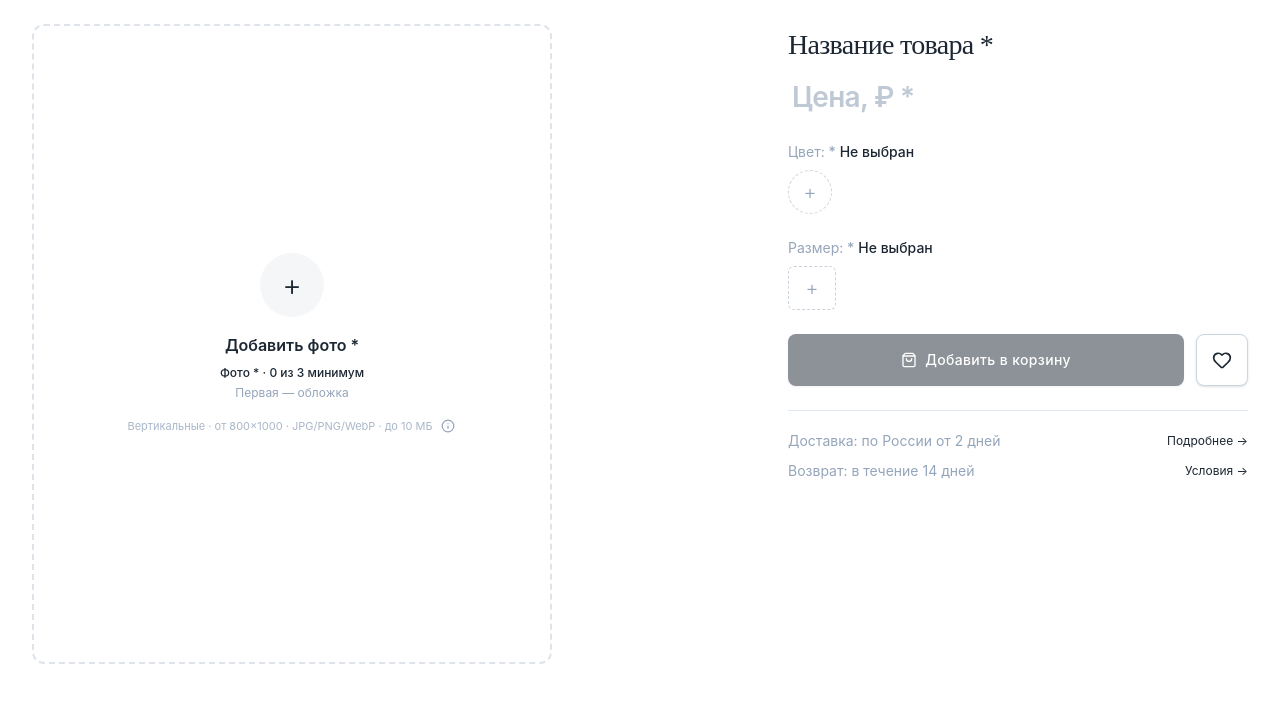
it: PS.R4A.6B — Validation & Required-State Visual Language › F. Complete field clears attention state immediately
The image size is (1280, 720).
// Focus and blur empty title to trigger attention
Click the heading "Название товара *" at (891, 44), box [788,29,993,60]
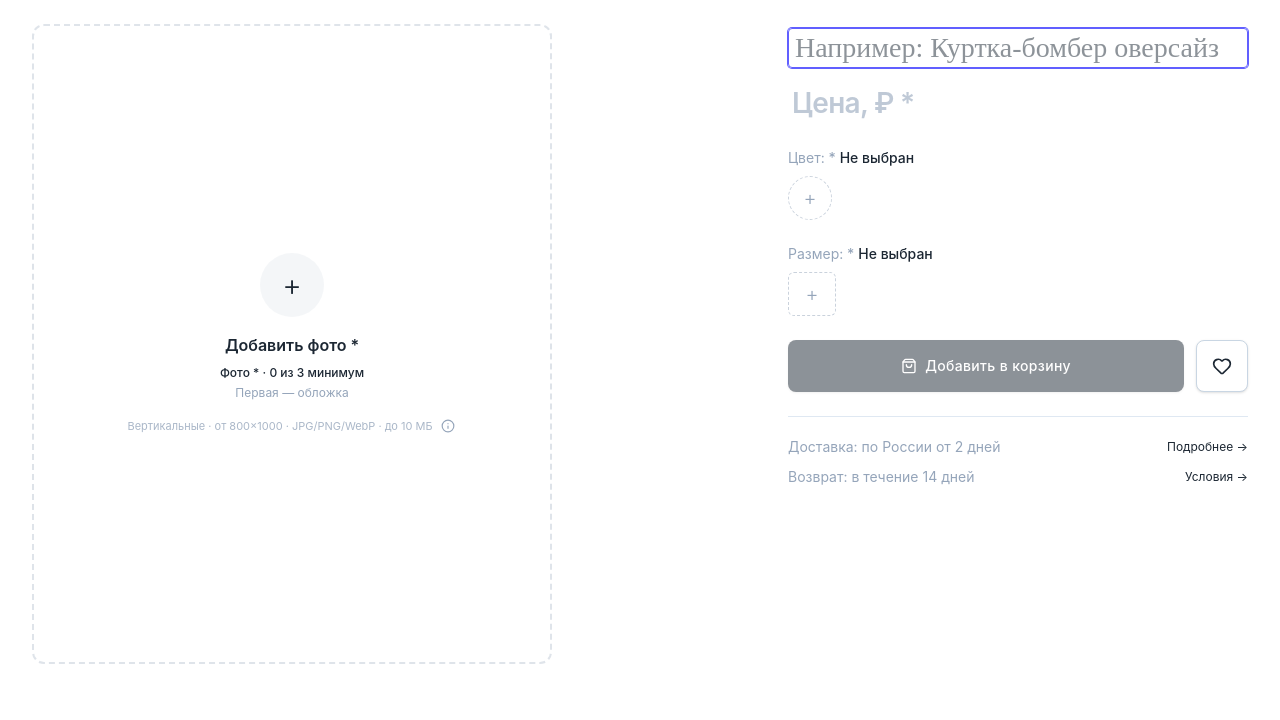
Leave the field with test id "visual-inline-input", box [788,28,1248,68]
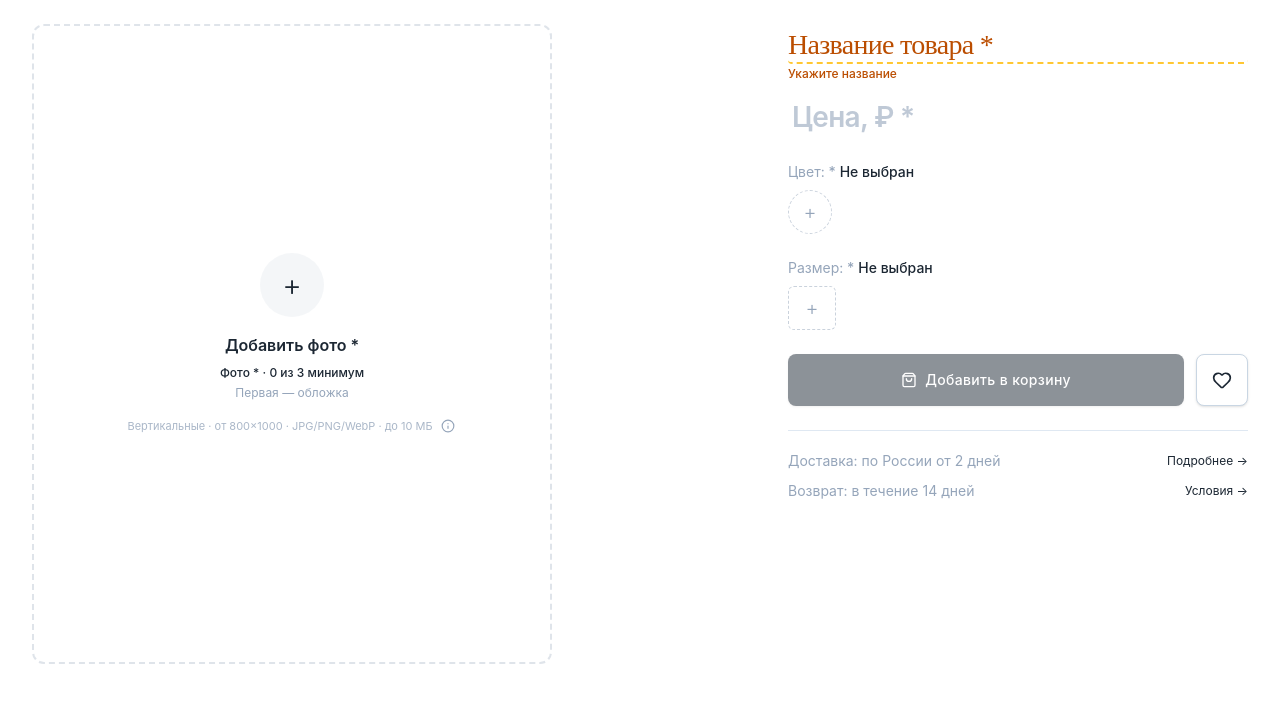
Check: the text "Укажите название" is shown, box [788,66,897,81]
// Now edit and enter valid title
Click the heading "Название товара *" at (1018, 46), box [788,28,1248,64]
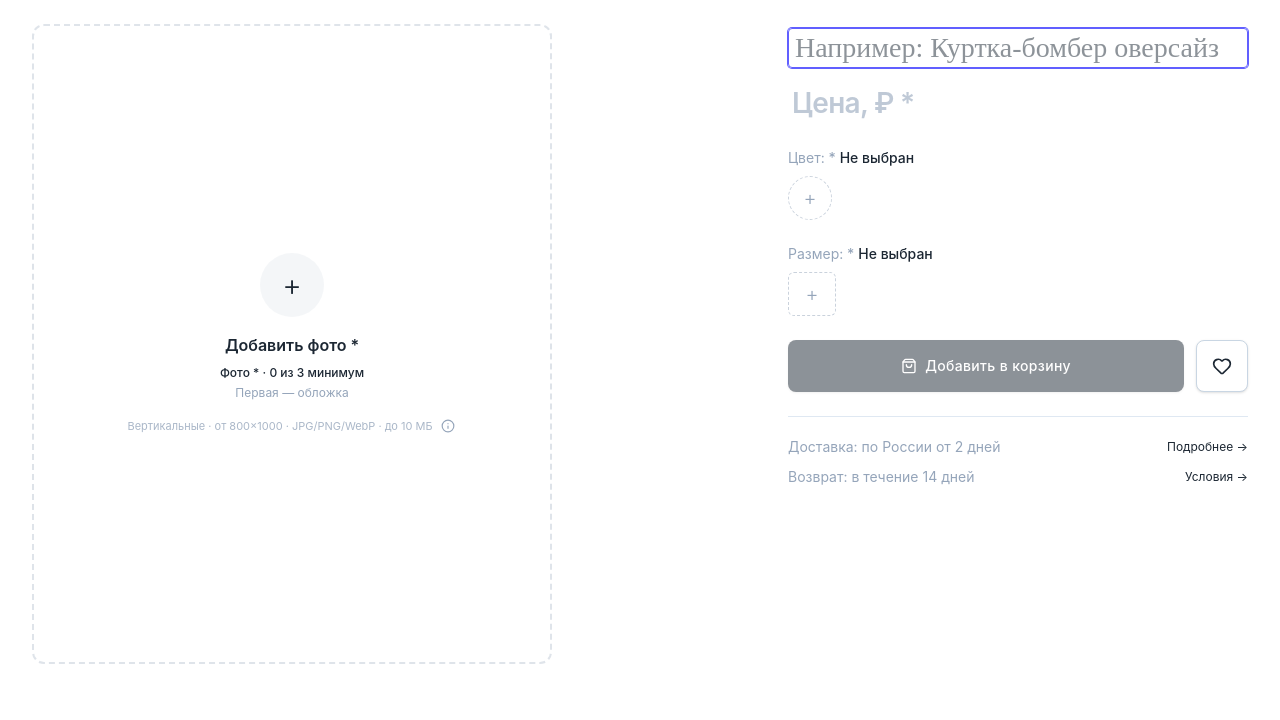
Type "Шёлковая рубашка" into the field with test id "visual-inline-input" at (1018, 48), box [788,28,1248,68]
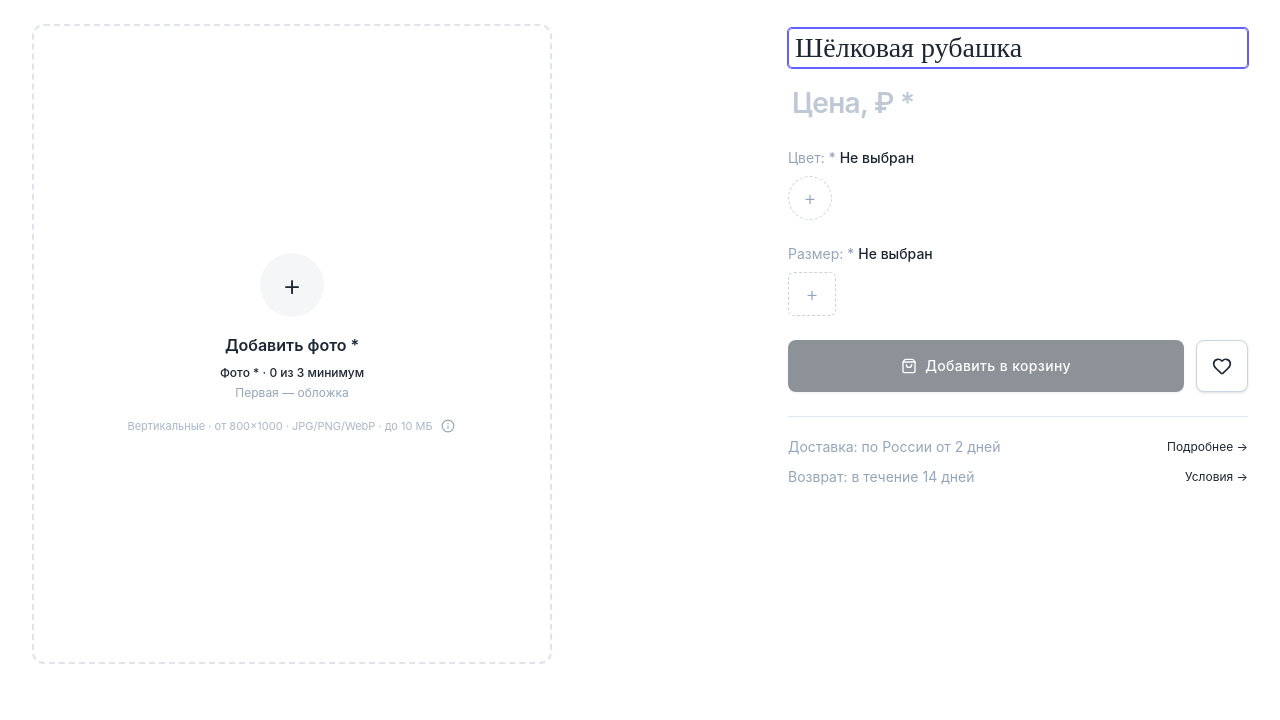
Leave the field with test id "visual-inline-input", box [788,28,1248,68]
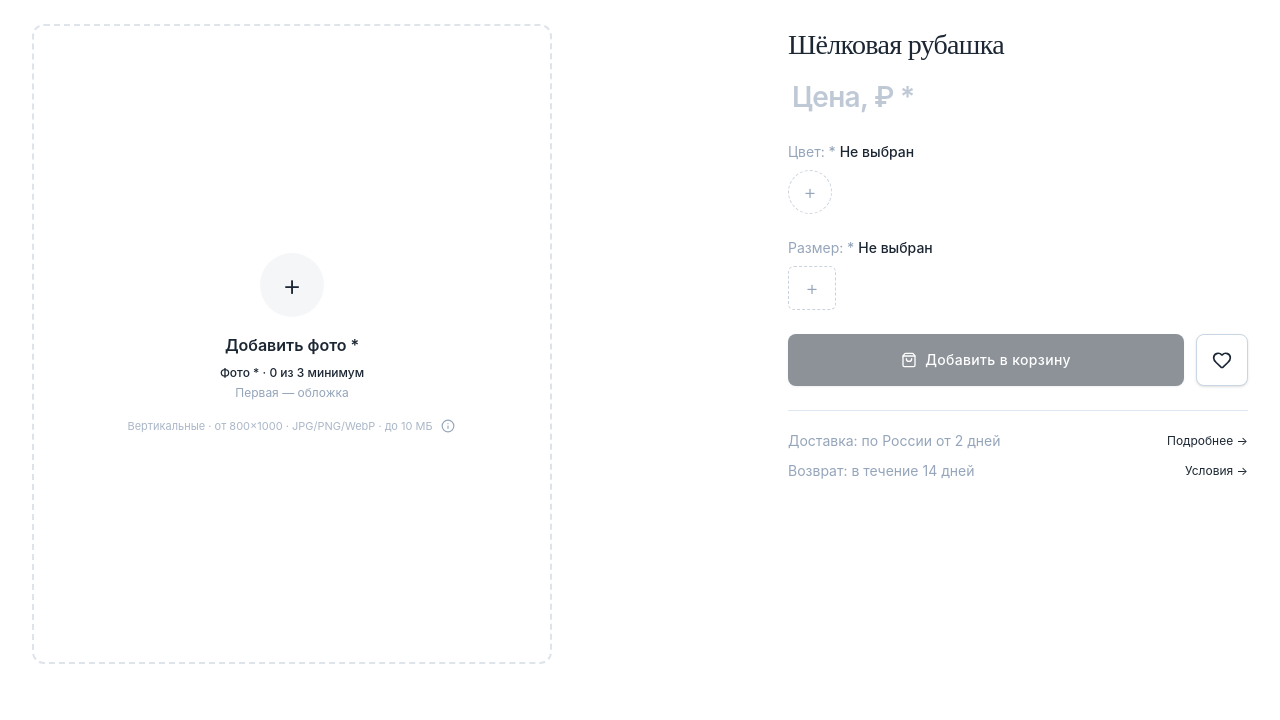
Check: the heading reads "Шёлковая рубашка", box [788,29,1004,60]
